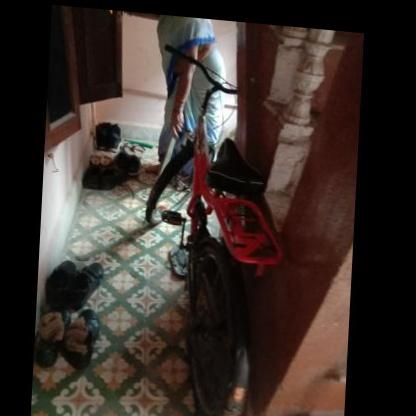Bicycle: (133, 26, 300, 409)
